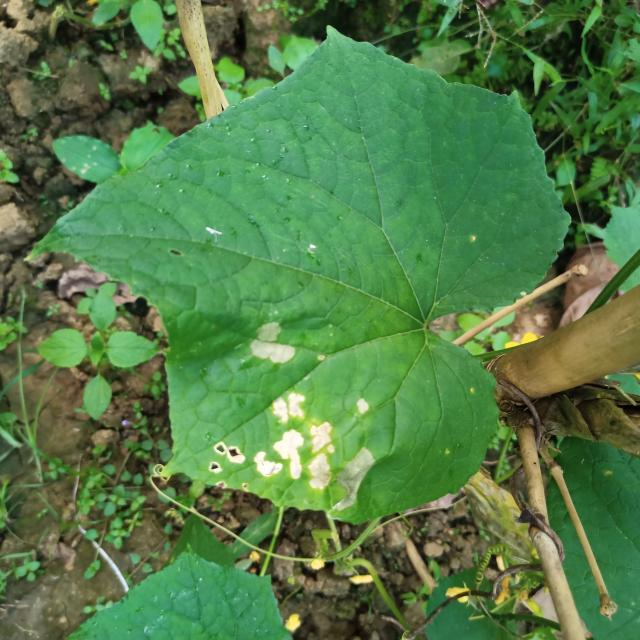disease_cucumber: (211, 386, 379, 508), (241, 315, 296, 372)
